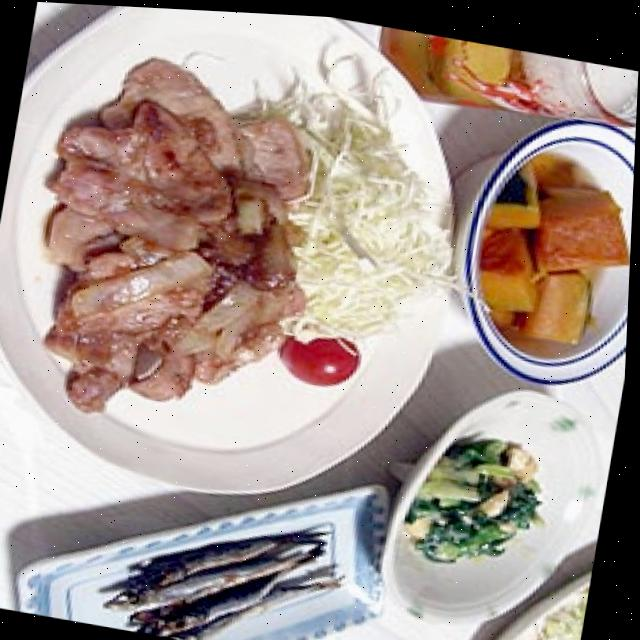猪肉菜式: (17, 15, 433, 474)
